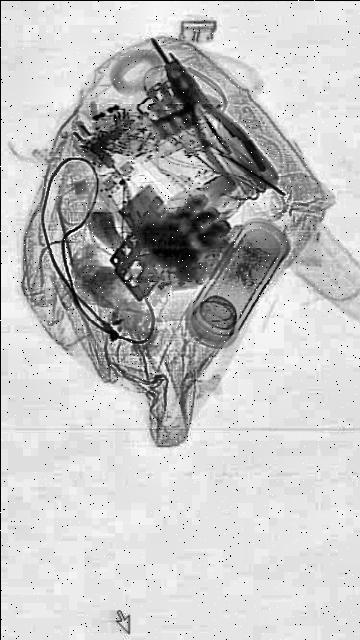Pliers: (158, 39, 268, 211)
